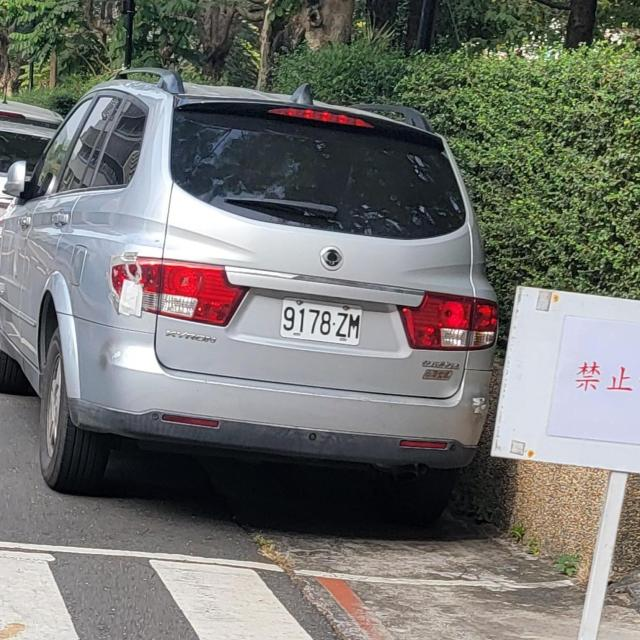W: (278, 293, 366, 348)
